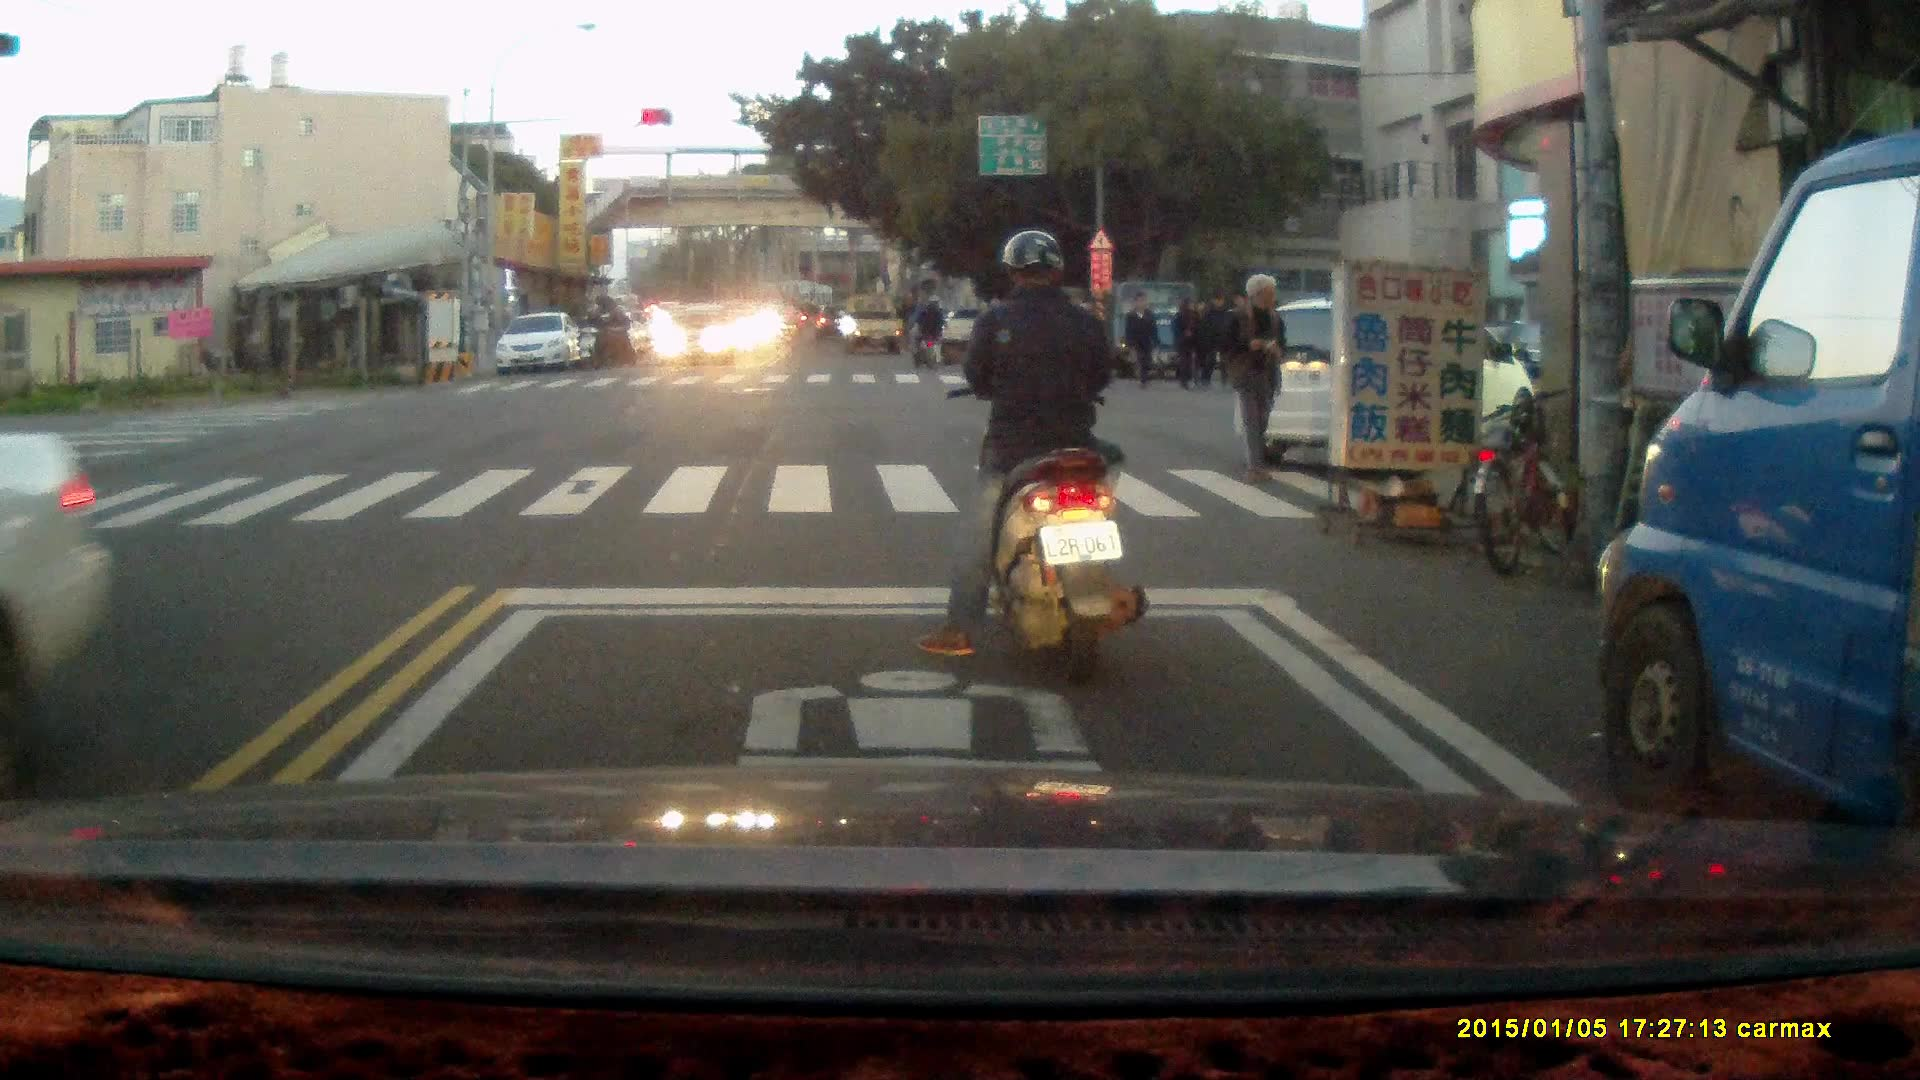pedestrian: (1219, 272, 1293, 484), (1120, 291, 1162, 393), (1170, 292, 1204, 392)
rider: (918, 225, 1149, 686), (908, 294, 945, 366), (577, 301, 612, 372), (596, 300, 632, 367)
vehicle: (1596, 120, 1920, 901), (1236, 303, 1533, 462), (651, 299, 744, 368), (493, 311, 584, 378), (839, 295, 902, 356)
